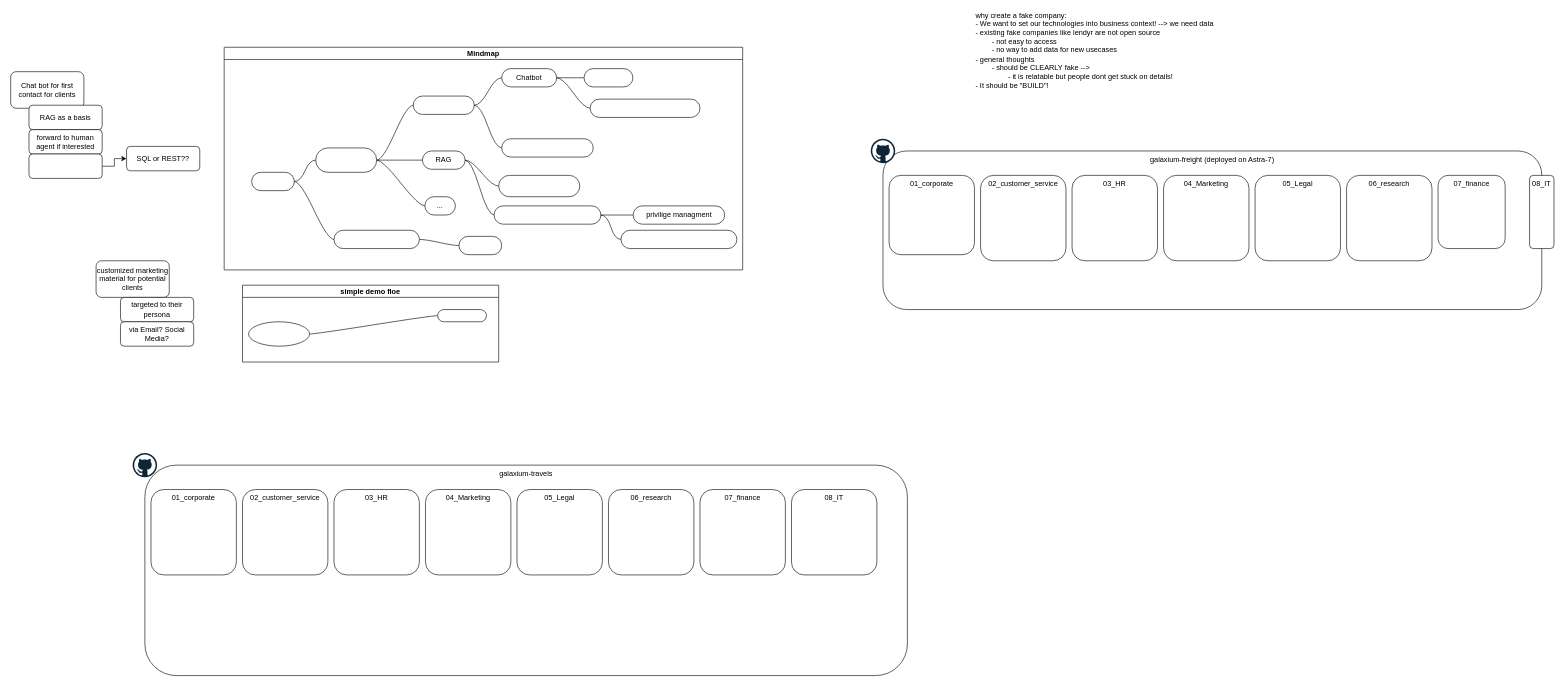
Some shapes in this 1565 by 686 pixel diagram are drawn without their labels. The shapes that lost their labels are listed below. From the top down, each one's centre as x and y in pixels, then its label:
At (x=608, y=77): "Internal".
At (x=443, y=104): "Agentic AI".
At (x=645, y=108): "external (customer facing)".
At (x=65, y=165): "research available flights (from database)".
At (x=346, y=159): "Usecases".
At (x=547, y=147): "Process Automation".
At (x=272, y=181): "Ideas".
At (x=539, y=186): "document (PDF Processing)".
At (x=547, y=214): "advanced RAG".
At (x=376, y=239): "technical concepts".
At (x=480, y=245): "MCP".
At (x=678, y=239): "agentic RAG (with filtering )".
At (x=279, y=333): "Central Idea".
At (x=461, y=315): "Topic".
